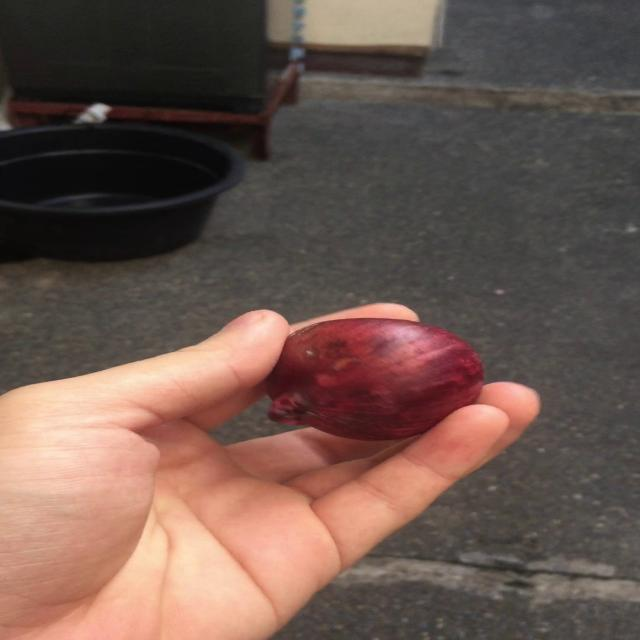Onion: (265, 319, 483, 441)
